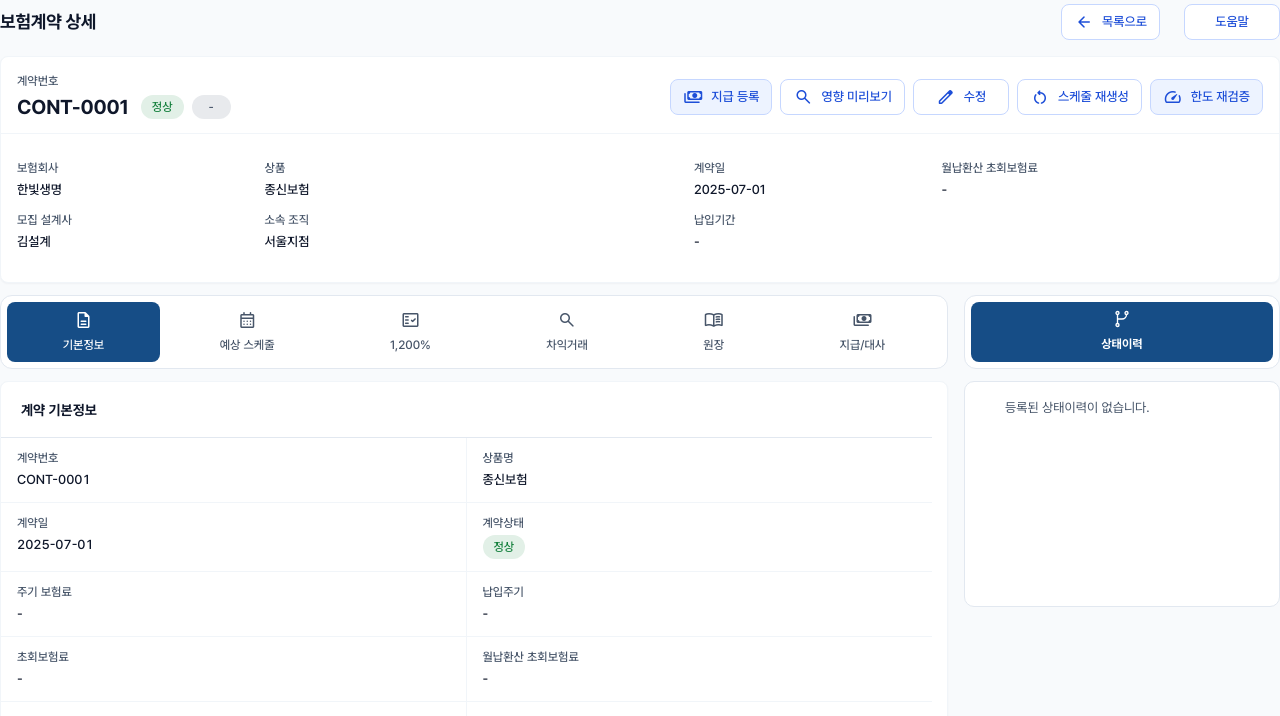
Test: CONT-W02 상태 변경 영향 미리보기 › 미계산과 자료 없음과 실제 0원을 구분한다
Click the button "영향 미리보기" at (843, 97), box [780, 79, 905, 115]
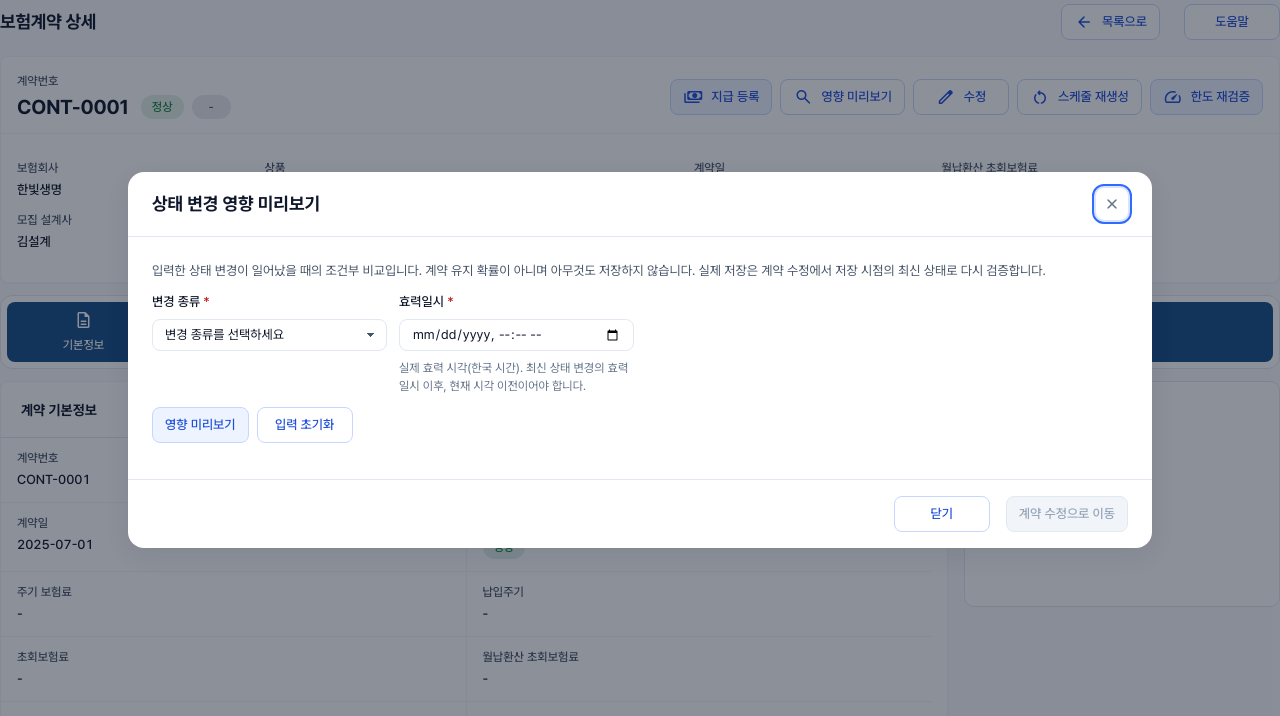
Select "해지" in the dropdown labelled "변경 종류 *" at (270, 335), box [152, 319, 387, 351]
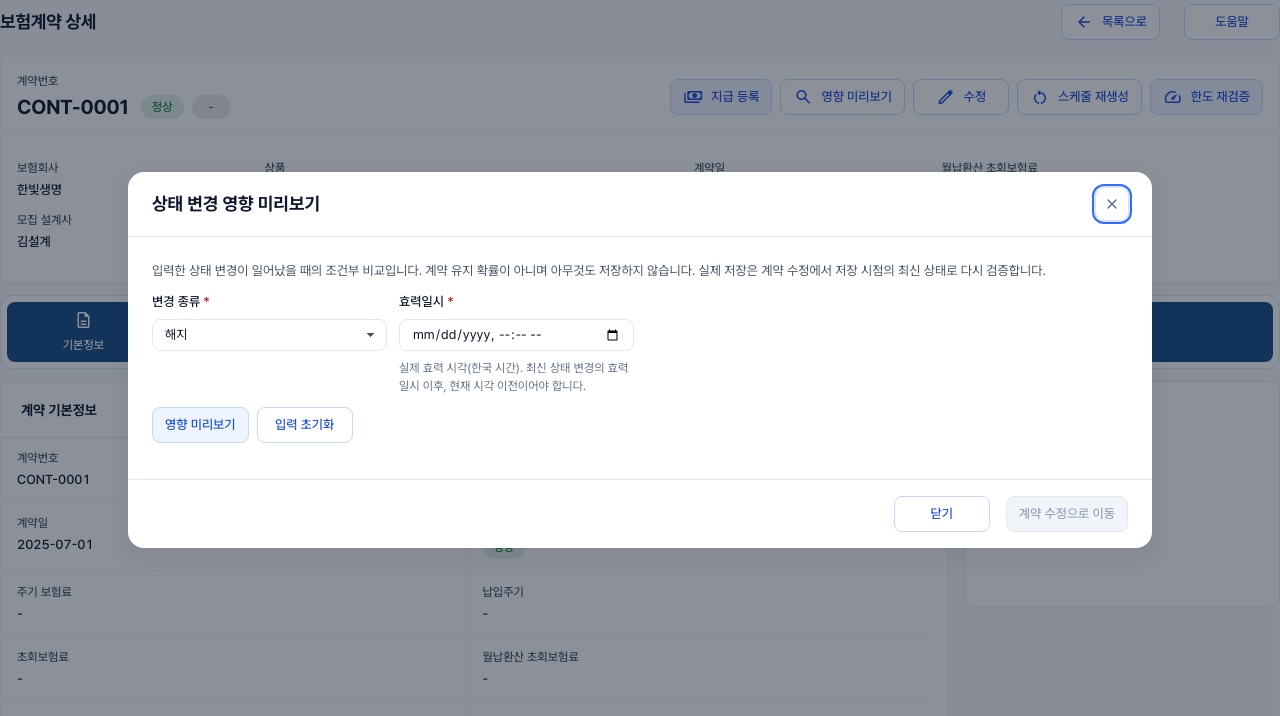
Type "2026-01-15T09:00" into the field labelled "효력일시 *" at (516, 335), box [399, 319, 634, 351]
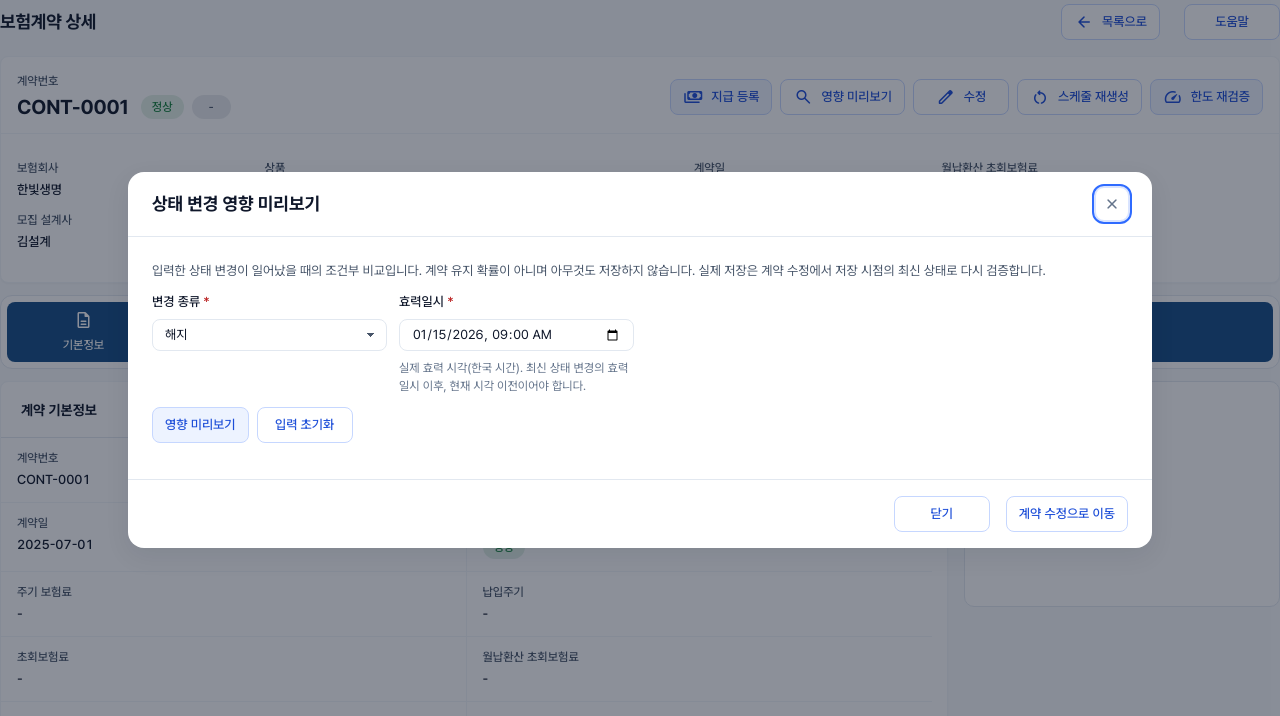
Click the button "영향 미리보기" at (200, 425), box [152, 407, 249, 443]
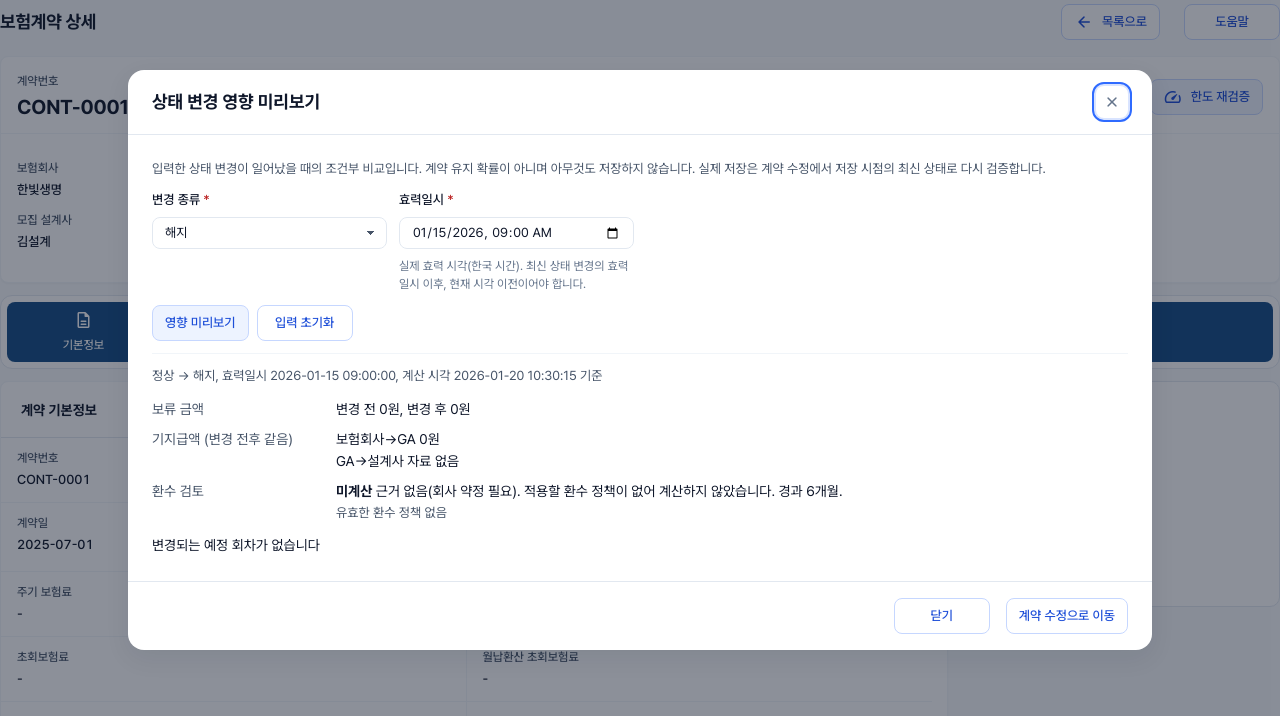
Expected: the text "미계산" is shown, [336, 483, 372, 499]
Expected: the text "근거 없음(회사 약정 필요)" is shown, [376, 483, 775, 499]
Expected: the text "유효한 환수 정책 없음" is shown, [336, 505, 447, 520]
